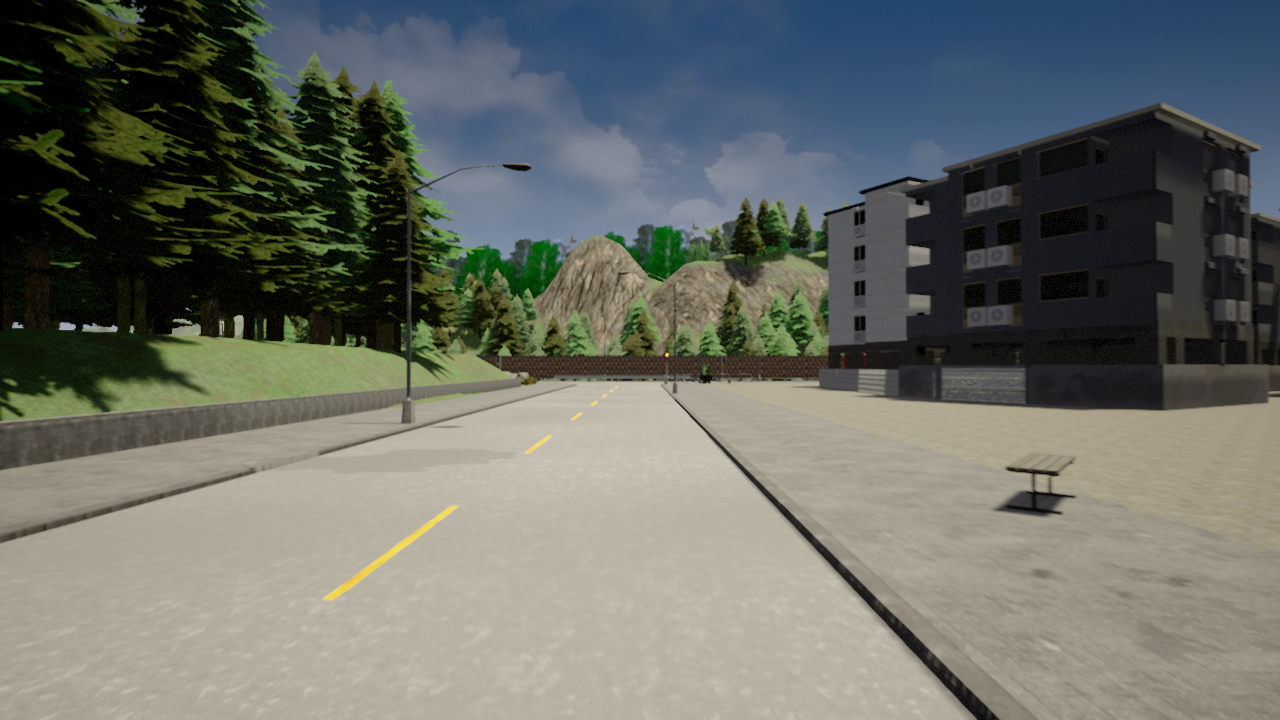red: (664, 351, 669, 363)
